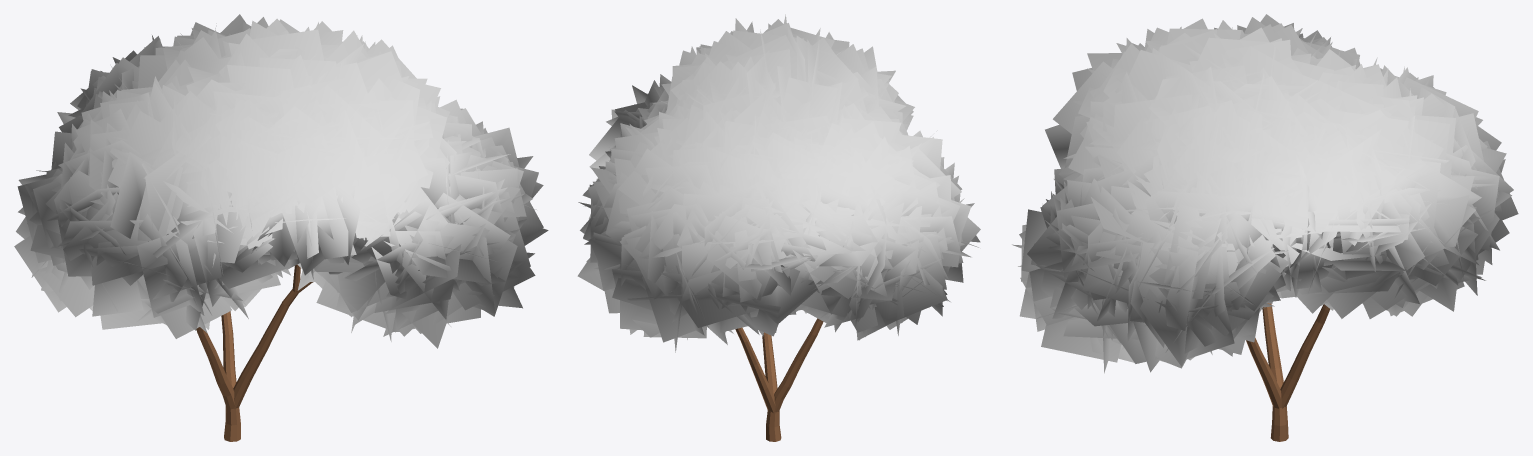
File: Tree_LOD1.fbx
3 views of the same model, side by side, from view 1: azimuth 30°, elevation 25°; view 2: azimuth 150°, elevation 25°; view 3: azimuth 270°, elevation 25° (orthographic). The views are drawn at different scales.
Parts seen in each view (by area): view 1: deadLeaves; view 2: deadLeaves; view 3: deadLeaves.
Boxes of the visible parts, bbox=[...] form: deadLeaves: bbox=[14, 14, 548, 441]; deadLeaves: bbox=[577, 14, 980, 441]; deadLeaves: bbox=[1012, 14, 1518, 441].
Size of the model in its own units: 1836 by 1699 by 1912.
